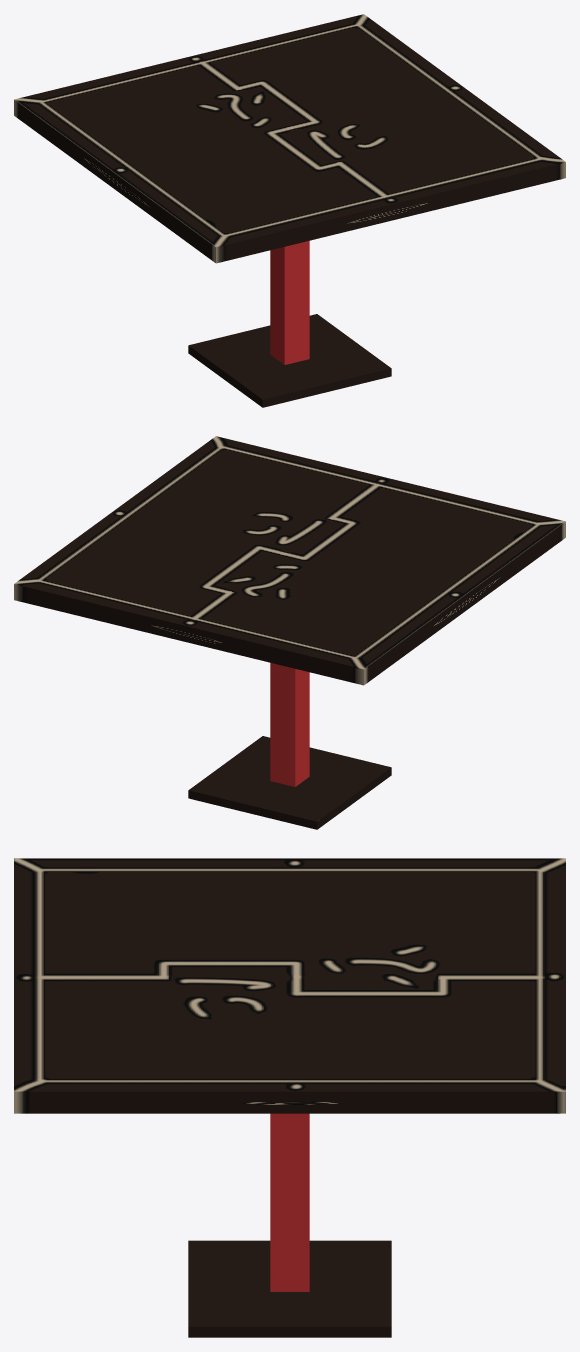
The model's file is Table.fbx.
3 renders of one model, top to bottom at view 1: azimuth 30°, elevation 25°; view 2: azimuth 150°, elevation 25°; view 3: azimuth 270°, elevation 25°, orthographic. The views are drawn at different scales.
Parts seen in each view (by area): view 1: Table; view 2: Table; view 3: Table.
Part boxes in pixels (left/top/right/bottom): Table: left=14, top=14, right=565, bottom=407; Table: left=14, top=436, right=565, bottom=829; Table: left=14, top=858, right=565, bottom=1337.
Size of the model in its own units: 200 by 128 by 200.
